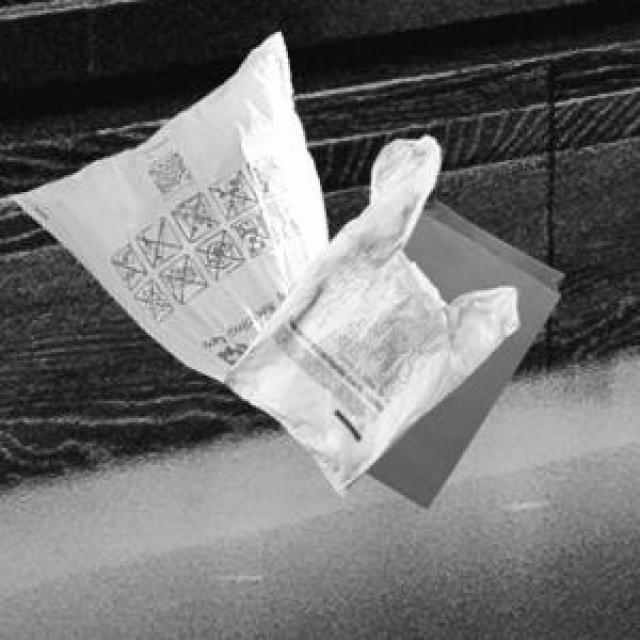paper: (363, 196, 561, 504)
